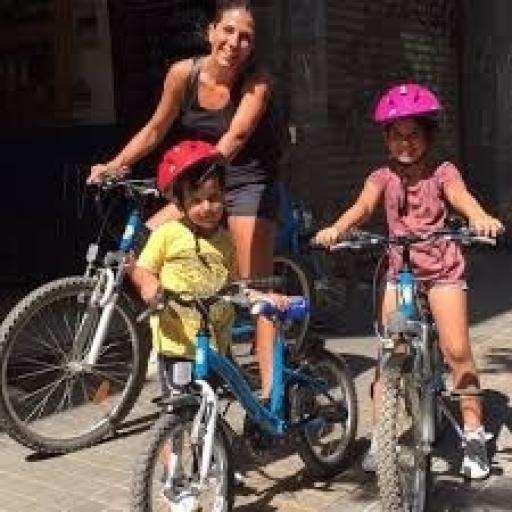cycling: (310, 80, 508, 484), (123, 136, 296, 510)
